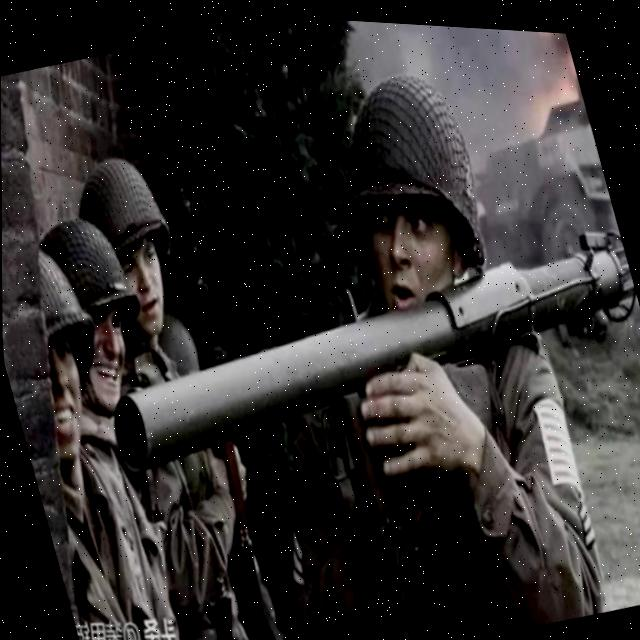rocket: (54, 98, 640, 585)
